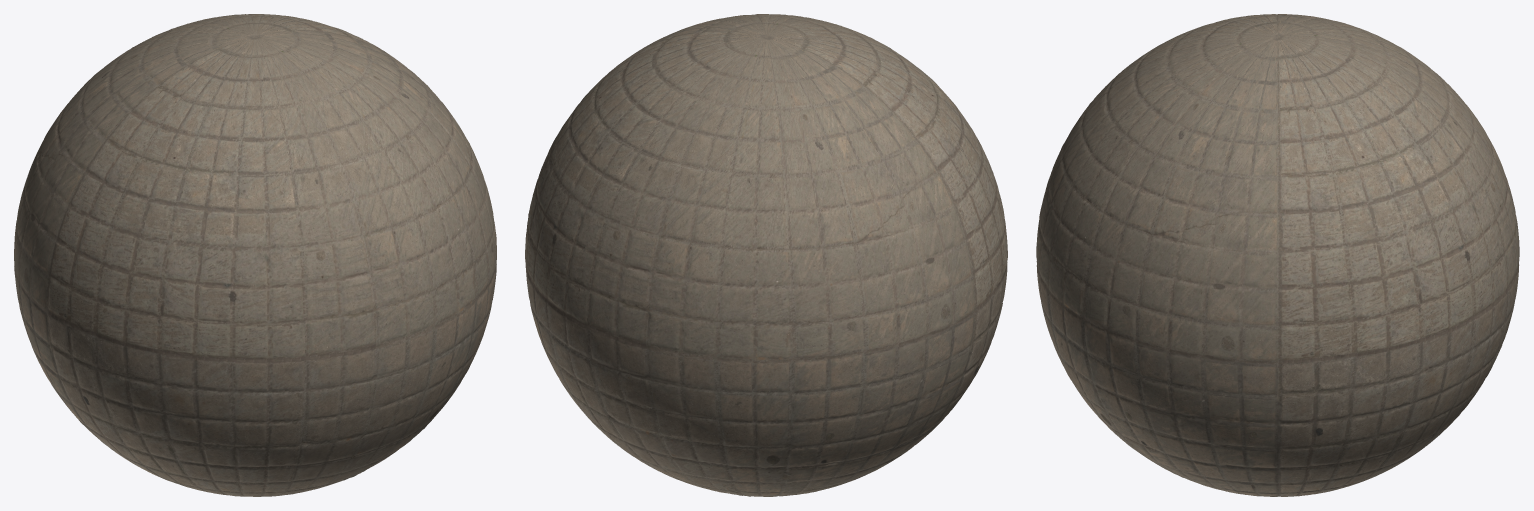
File: floor_pavement_1k.gltf
The picture shows the model from 3 angles, left to right: view 1: azimuth 30°, elevation 25°; view 2: azimuth 150°, elevation 25°; view 3: azimuth 270°, elevation 25°; orthographic projection.
Parts seen in each view (by area): view 1: sphere_gltf; view 2: sphere_gltf; view 3: sphere_gltf.
Part boxes in pixels (x1=…): sphere_gltf: x1=14, y1=14, x2=496, y2=496; sphere_gltf: x1=525, y1=14, x2=1007, y2=496; sphere_gltf: x1=1036, y1=14, x2=1519, y2=496.
Bounding box in the file's own units: 1.97 × 1.97 × 1.97.
Materials: 1 (1 with a texture image).
